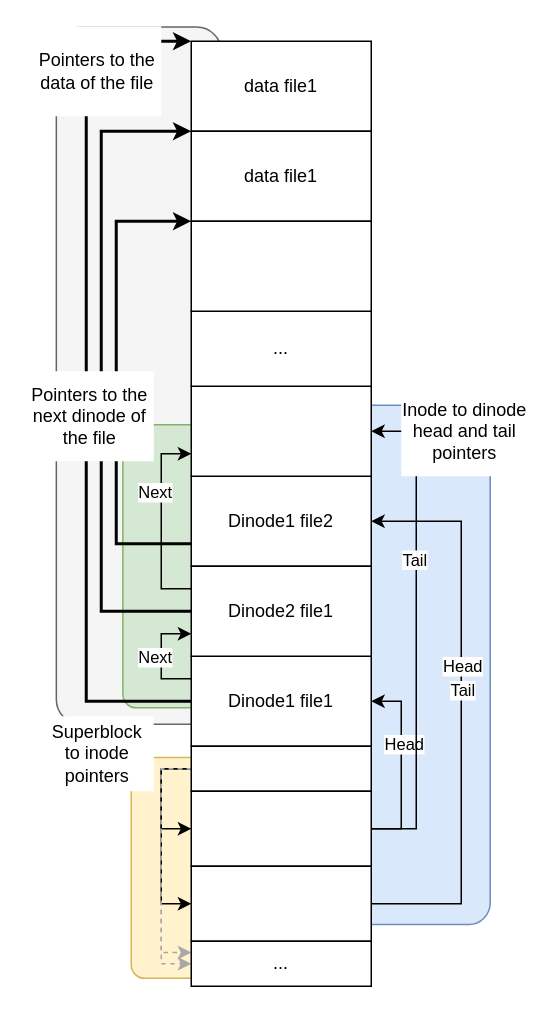
The diagram is 554 pixels wide and 1013 high, and some of its shapes have lost their labels. Here are the shapes that lost their labels. From the top down, the centre of each, then its label:
At point 280,265: "data file2".
At point 280,430: "Dinode3 file1".
At point 280,768: "Superblock".
At point 280,828: "Inode file1".
At point 280,903: "Inode file2".
